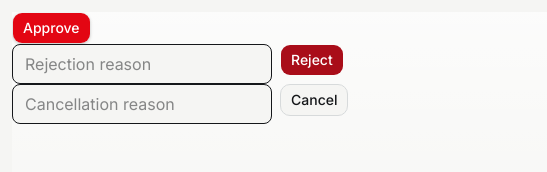
Test: TransferLifecycleControls › surfaces a rejected approval instead of silently succeeding
Click the button "Approve".
click(51, 28)  # box [12,12,91,44]
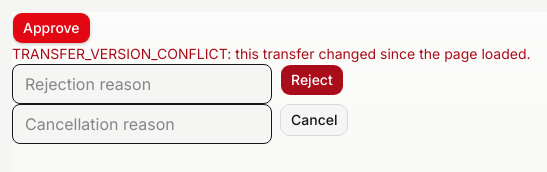
Check: the message shows "TRANSFER_VERSION_CONFLICT", box [12,45,530,62]
